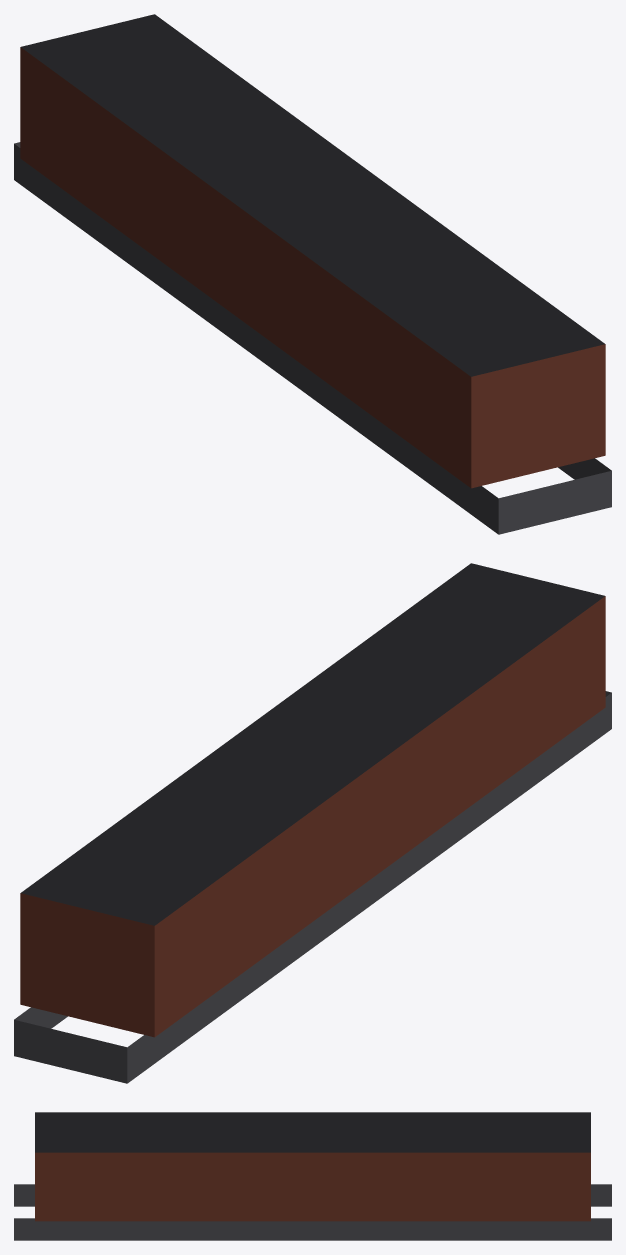
The model's file is wagon_1_far.fbx.
The picture shows the model from 3 angles, top to bottom: view 1: azimuth 30°, elevation 25°; view 2: azimuth 150°, elevation 25°; view 3: azimuth 270°, elevation 25°; orthographic projection. The views are drawn at different scales.
Parts seen in each view (by area): view 1: 22_wagon_1_far; view 2: 22_wagon_1_far; view 3: 22_wagon_1_far.
Boxes of the visible parts, x1,y1,x2,y2 form: 22_wagon_1_far: (14,14,611,534); 22_wagon_1_far: (14,563,611,1083); 22_wagon_1_far: (14,1112,611,1240).
Bounding box in the file's own units: 3.2 × 3.37 × 20.
